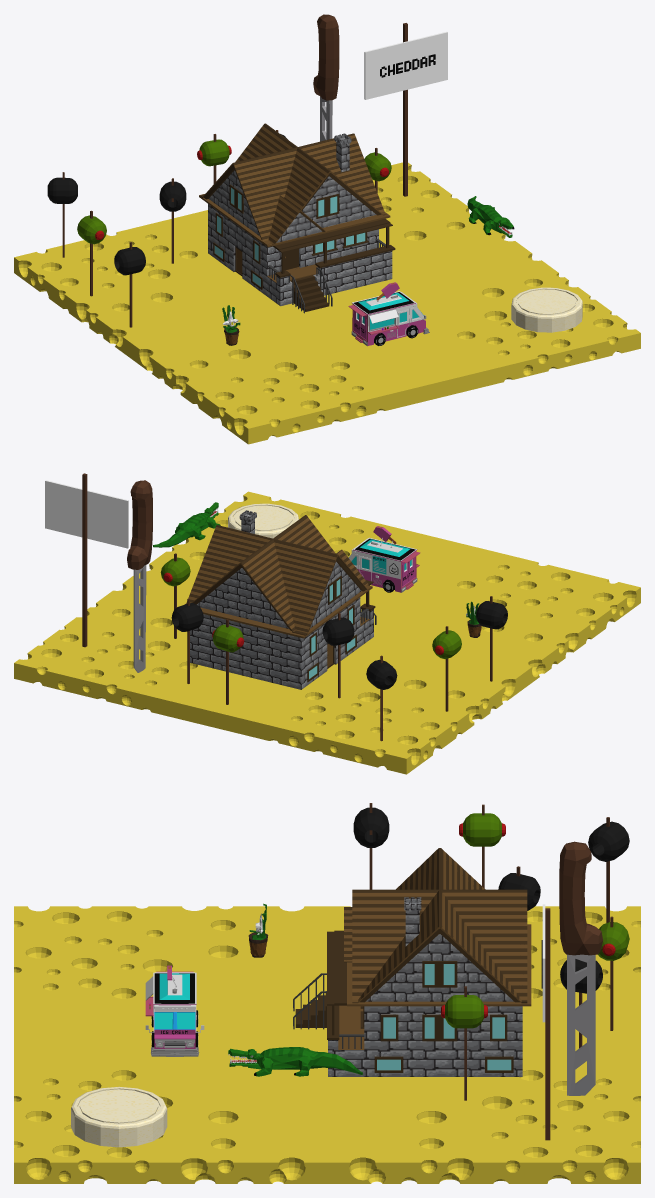
The picture shows the model from 3 angles, top to bottom: view 1: azimuth 30°, elevation 25°; view 2: azimuth 150°, elevation 25°; view 3: azimuth 270°, elevation 25°; orthographic projection. The views are drawn at different scales.
Parts seen in each view (by area): view 1: Cube.022, Cube.586, Cube.023, VEHICLES_ICE_CREAM_TRUCK, Cylinder.016, Cube.024, Sphere.017, ANIMAL_COCODRILO, Sphere.016, Sphere.020, Sphere.018, Sphere.022 (+1 smaller); view 2: Cube.022, Cube.586, Cube.023, Cube.024, VEHICLES_ICE_CREAM_TRUCK, Cylinder.016, ANIMAL_COCODRILO, Sphere.017, Sphere.020, Sphere.021, Sphere.016, Sphere.018 (+2 smaller); view 3: Cube.022, Cube.586, Cube.024, Cylinder.016, VEHICLES_ICE_CREAM_TRUCK, ANIMAL_COCODRILO, Cube.023, Sphere.019, Sphere.016, Sphere.018, Sphere.017, Sphere.022 (+3 smaller).
Boxes of the visible parts, <box> form: Cube.022: <box>14,162,640,444</box>; Cube.586: <box>199,123,395,313</box>; Cube.023: <box>364,23,447,196</box>; VEHICLES_ICE_CREAM_TRUCK: <box>348,282,429,346</box>; Cylinder.016: <box>511,287,582,332</box>; Cube.024: <box>313,14,339,141</box>; Sphere.017: <box>114,242,145,327</box>; ANIMAL_COCODRILO: <box>467,196,514,237</box>; Sphere.016: <box>47,172,77,257</box>; Sphere.020: <box>159,178,186,263</box>; Sphere.018: <box>77,210,106,296</box>; Sphere.022: <box>197,134,231,183</box>; Cube.022: <box>14,491,640,774</box>; Cube.586: <box>184,510,376,689</box>; Cube.023: <box>45,473,128,647</box>; Cube.024: <box>127,480,152,672</box>; VEHICLES_ICE_CREAM_TRUCK: <box>348,526,420,592</box>; Cylinder.016: <box>228,503,298,538</box>; ANIMAL_COCODRILO: <box>153,502,220,547</box>; Sphere.017: <box>476,596,507,681</box>; Sphere.020: <box>322,612,354,698</box>; Sphere.021: <box>171,598,203,683</box>; Sphere.016: <box>366,655,397,741</box>; Sphere.018: <box>432,626,461,711</box>; Cube.022: <box>14,906,640,1183</box>; Cube.586: <box>293,848,531,1076</box>; Cube.024: <box>559,841,602,1095</box>; Cylinder.016: <box>71,1086,167,1147</box>; VEHICLES_ICE_CREAM_TRUCK: <box>145,965,204,1056</box>; ANIMAL_COCODRILO: <box>228,1047,362,1076</box>; Cube.023: <box>541,904,550,1140</box>; Sphere.019: <box>441,986,487,1100</box>; Sphere.016: <box>588,817,629,922</box>; Sphere.018: <box>459,804,505,888</box>; Sphere.017: <box>353,803,389,889</box>; Sphere.022: <box>598,916,629,1030</box>.
Size of the model in its own units: 3917 by 2007 by 4000.
Materials: 47 (4 with a texture image).
